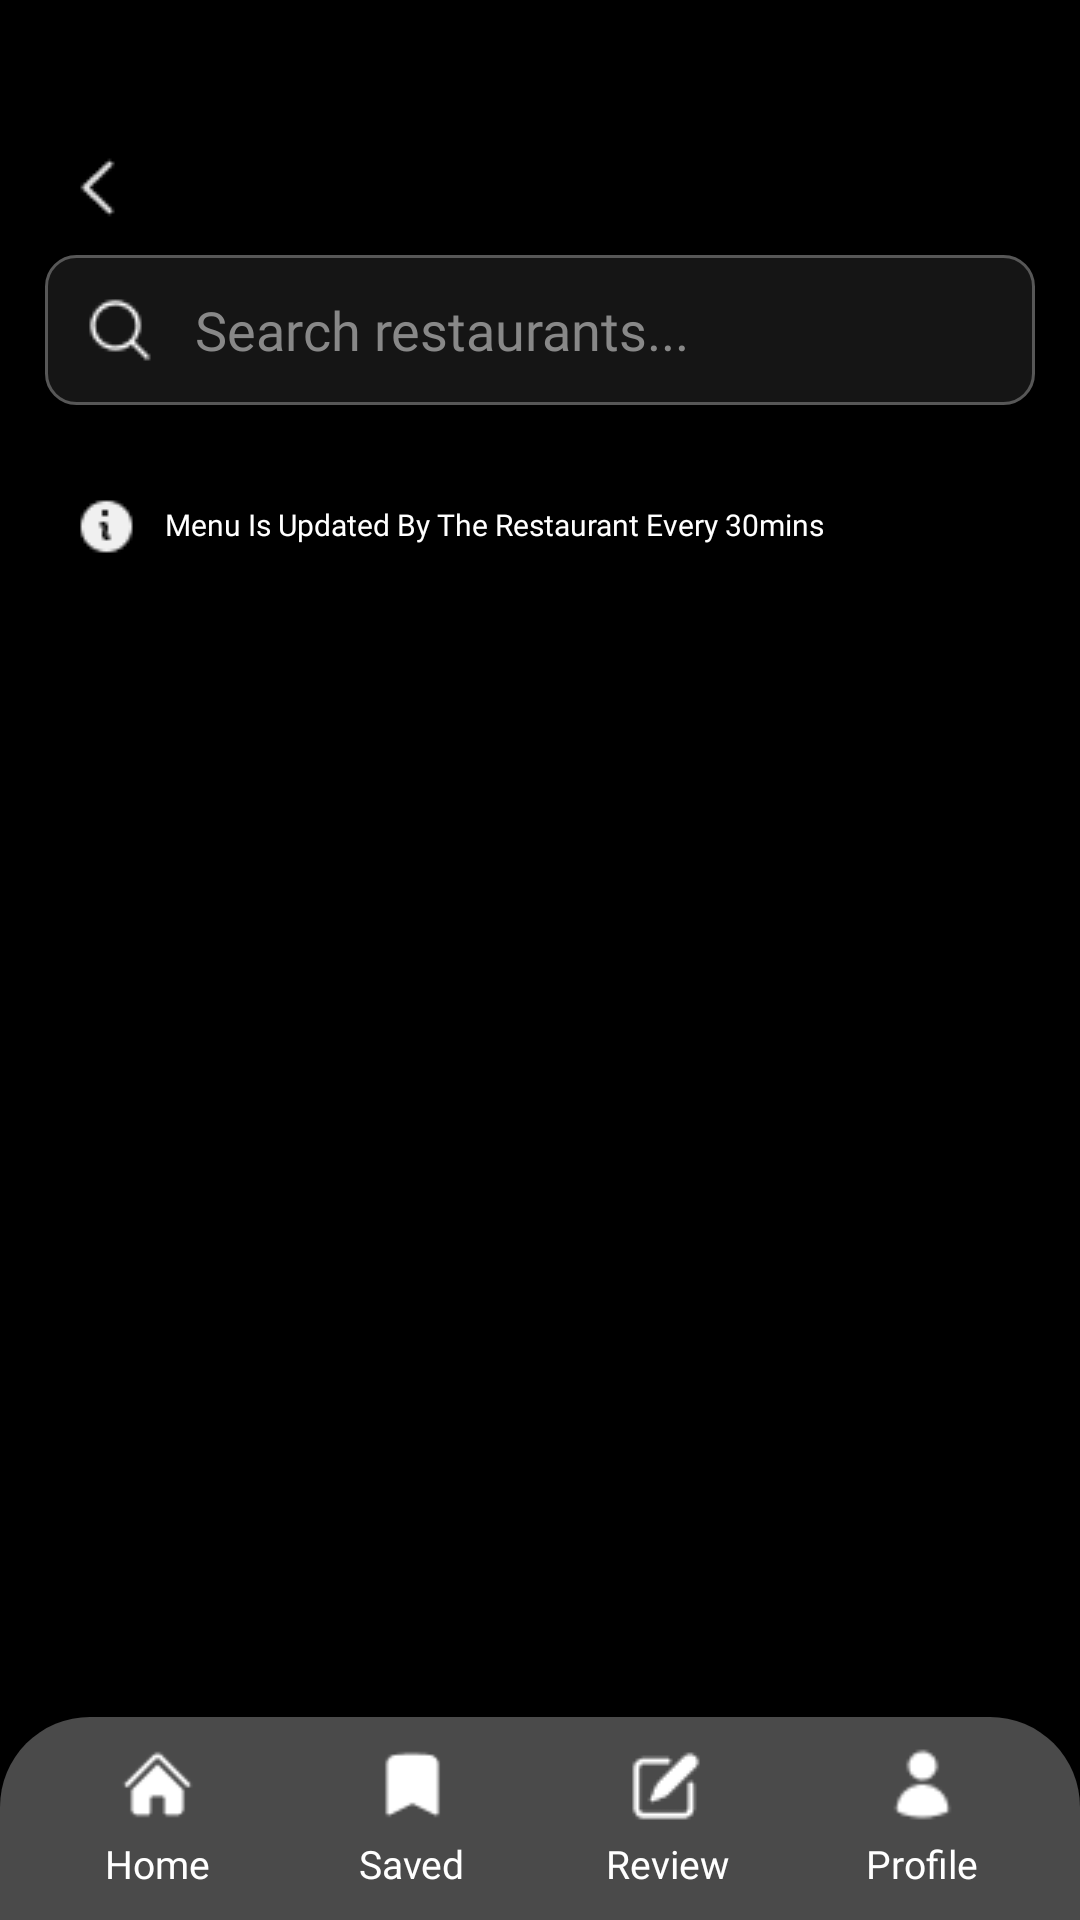

Where to tap for icons on this 1080 x 1920 app screen, as (x=x, y=y):
chevron left: (x=97, y=187)
info: (x=106, y=526)
